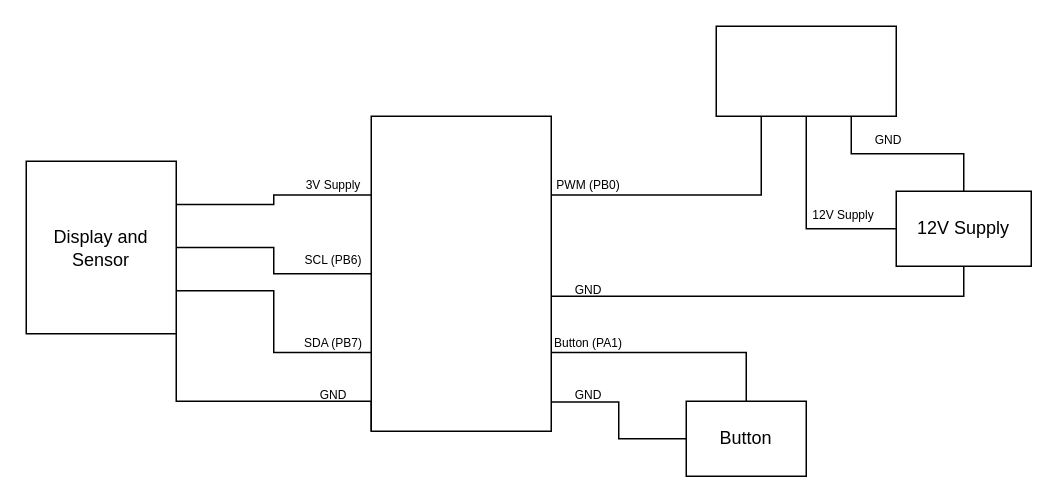
This 1058x503 diagram has some shape labels left out. Each missing label, with the centre of its shape:
Fan: the point at 805,70
STM32F407 Dev Board: the point at 460,273
